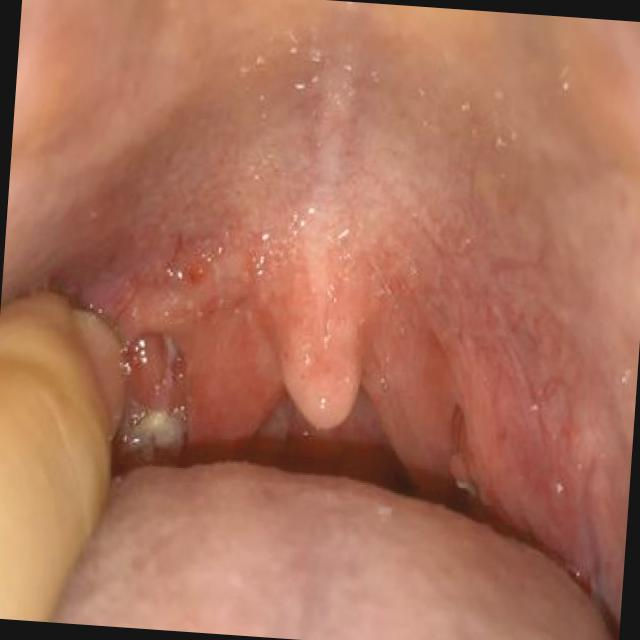pharyngitis: (527, 342, 639, 582), (115, 282, 218, 470)
